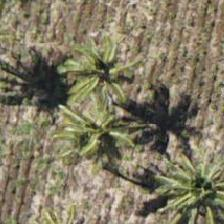coconut_tree: (55, 110, 145, 200), (63, 48, 153, 138), (152, 163, 223, 223)
